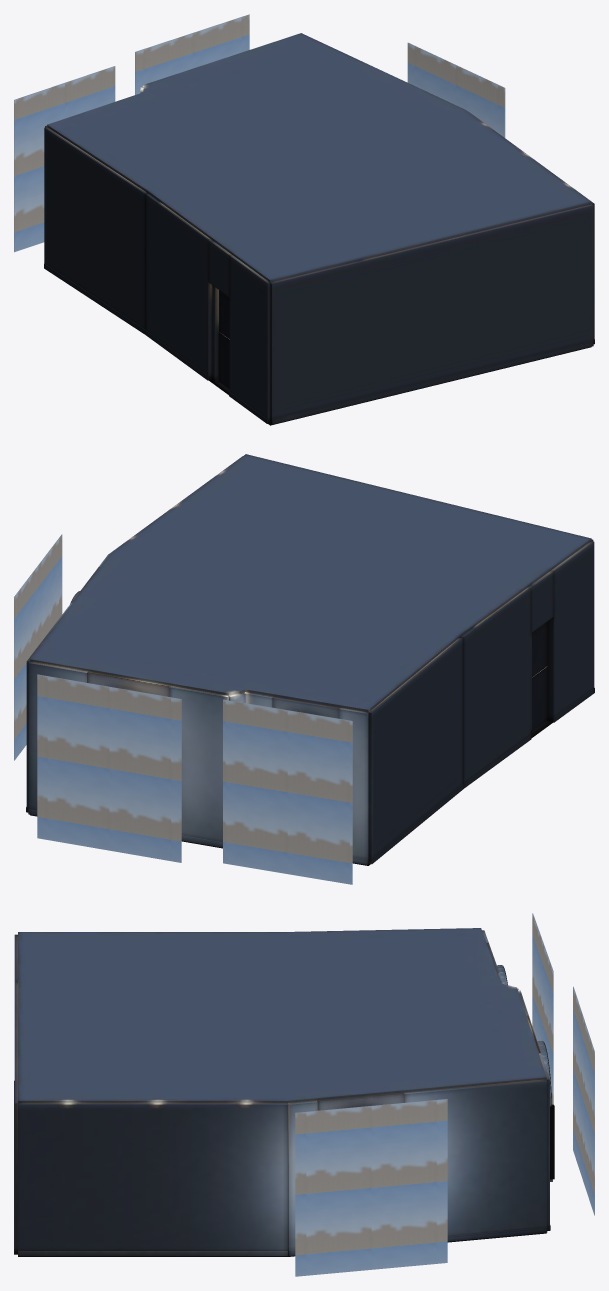
Rendered from twobed_raw.glb.
3 views of the same model, one above another, from view 1: azimuth 30°, elevation 25°; view 2: azimuth 150°, elevation 25°; view 3: azimuth 270°, elevation 25° (orthographic). The views are drawn at different scales.
Parts seen in each view (by area): view 1: BAKED_interior, Ceiling_BAKED, Window_0_POSITION_UNSOURCED_backdrop, Window_3_POSITION_UNSOURCED_backdrop, Window_2_POSITION_UNSOURCED_backdrop; view 2: Ceiling_BAKED, BAKED_interior, Window_2_POSITION_UNSOURCED_backdrop, Window_0_POSITION_UNSOURCED_backdrop, Window_3_POSITION_UNSOURCED_backdrop; view 3: Ceiling_BAKED, BAKED_interior, Window_3_POSITION_UNSOURCED_backdrop, Window_2_POSITION_UNSOURCED_backdrop, Window_0_POSITION_UNSOURCED_backdrop.
Part boxes in pixels (bbox=[...]): BAKED_interior: bbox=[44, 85, 594, 425]; Ceiling_BAKED: bbox=[47, 33, 591, 282]; Window_0_POSITION_UNSOURCED_backdrop: bbox=[14, 66, 115, 252]; Window_3_POSITION_UNSOURCED_backdrop: bbox=[407, 42, 505, 137]; Window_2_POSITION_UNSOURCED_backdrop: bbox=[135, 14, 249, 94]; Ceiling_BAKED: bbox=[30, 454, 591, 712]; BAKED_interior: bbox=[26, 456, 594, 865]; Window_2_POSITION_UNSOURCED_backdrop: bbox=[37, 674, 181, 862]; Window_0_POSITION_UNSOURCED_backdrop: bbox=[223, 699, 352, 884]; Window_3_POSITION_UNSOURCED_backdrop: bbox=[14, 534, 62, 760]; Ceiling_BAKED: bbox=[18, 928, 546, 1103]; BAKED_interior: bbox=[14, 930, 554, 1256]; Window_3_POSITION_UNSOURCED_backdrop: bbox=[295, 1099, 447, 1276]; Window_2_POSITION_UNSOURCED_backdrop: bbox=[573, 986, 594, 1215]; Window_0_POSITION_UNSOURCED_backdrop: bbox=[532, 913, 553, 1104].
Bounding box in the file's own units: 8.51 × 3.3 × 10.45.
Materials: 6 (2 with a texture image).
